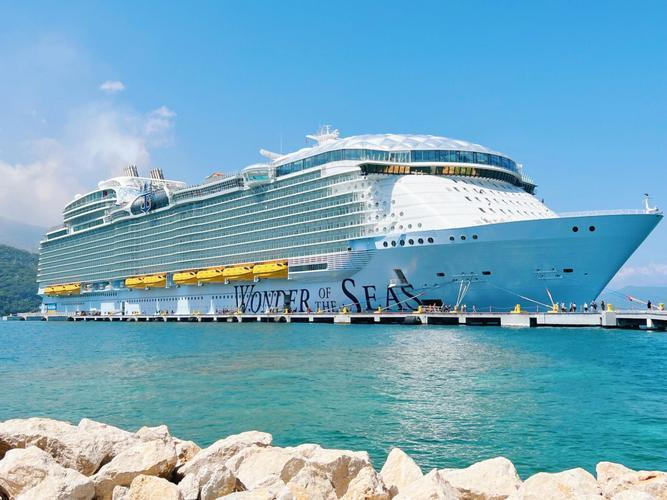Ship: (50, 112, 650, 321)
